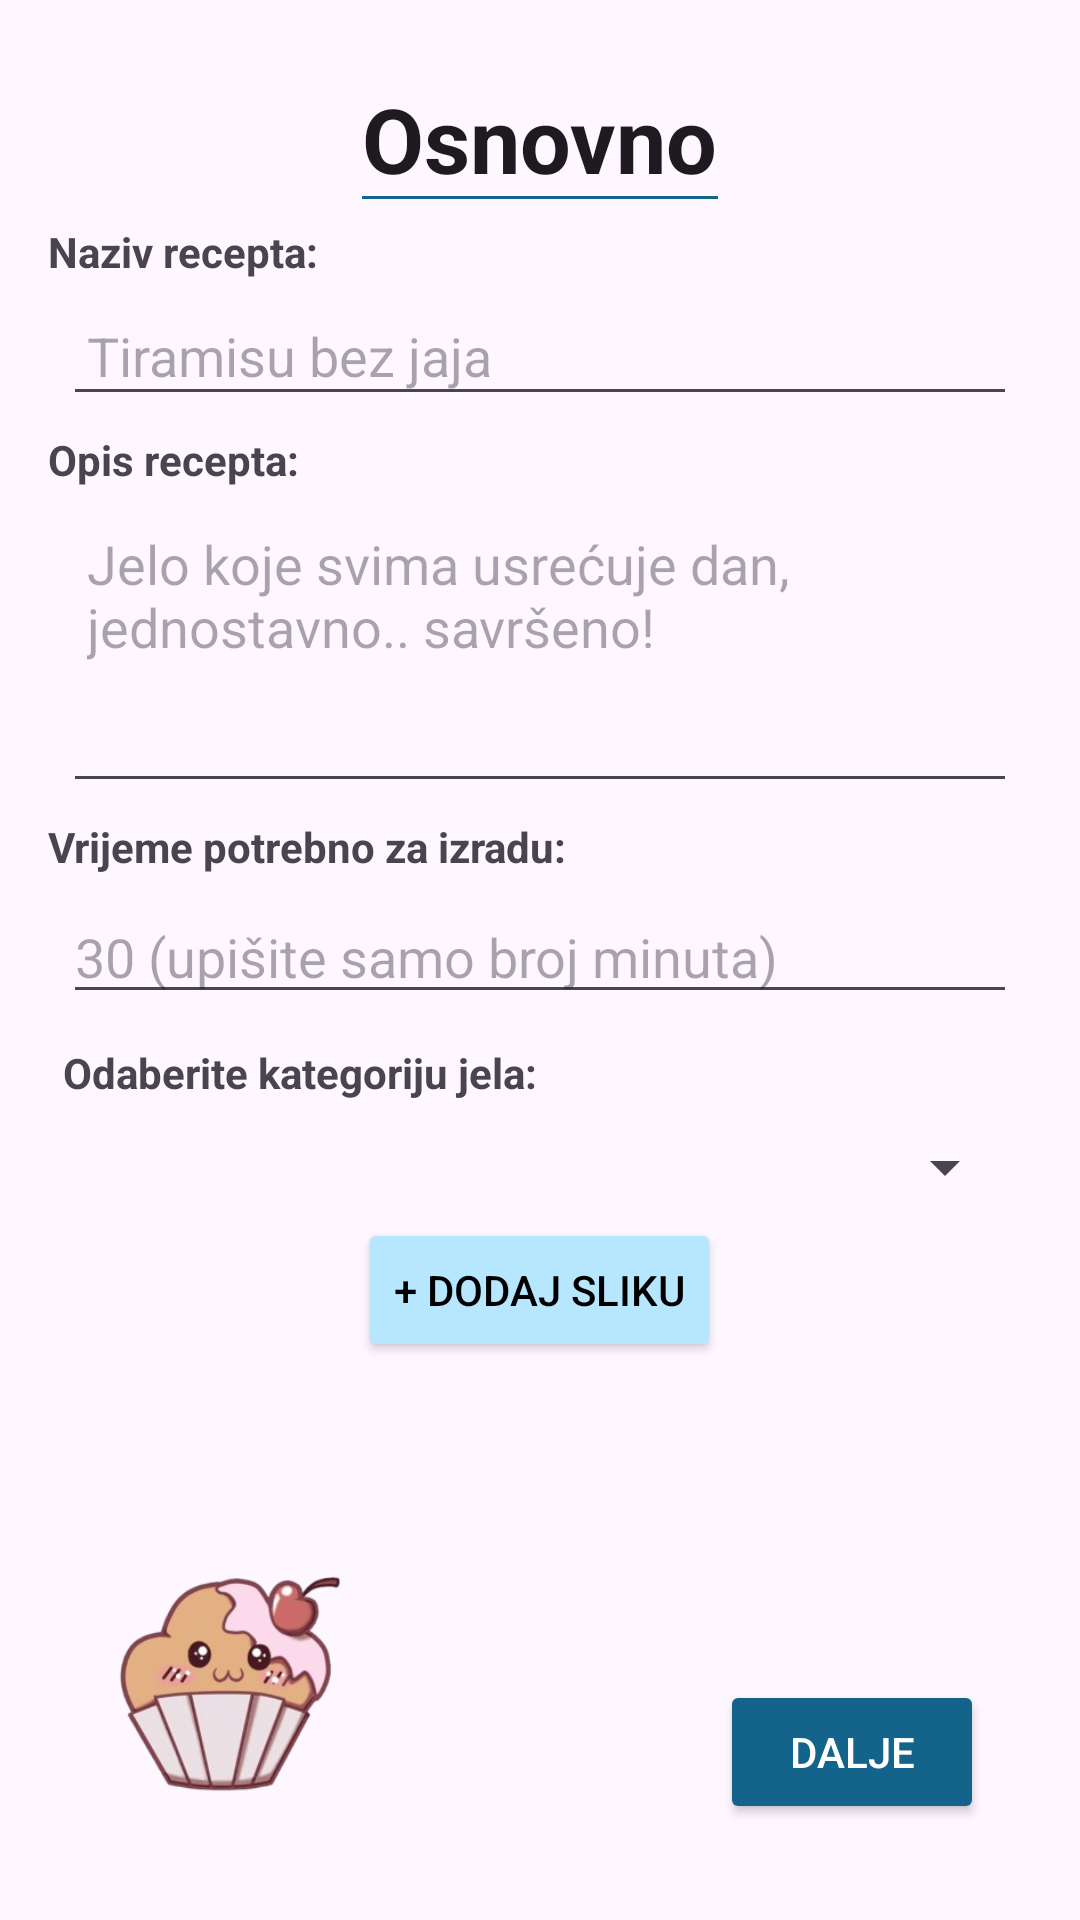

Icon bounding boxes for this 1080 x 1920 phone screenshot, format (x1=x1, y1=y1, x2=x2, y2=y2):
adding muffin: (x1=120, y1=1577, x2=340, y2=1791)
